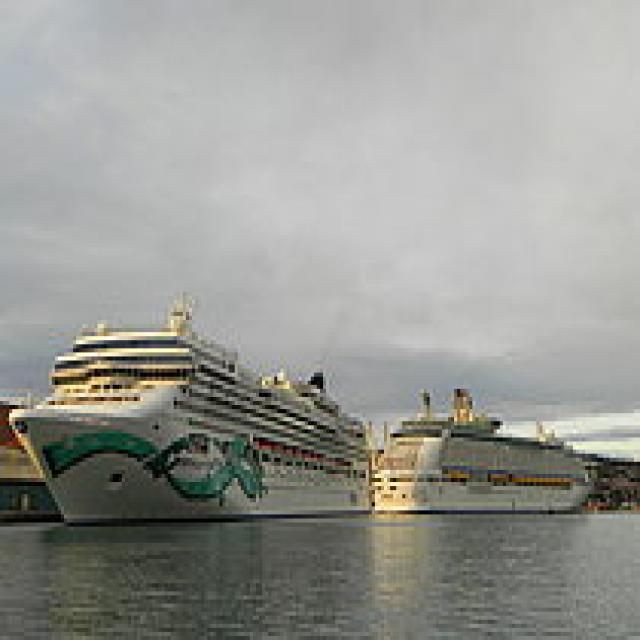Ship: (7, 281, 385, 540), (373, 378, 614, 532)
